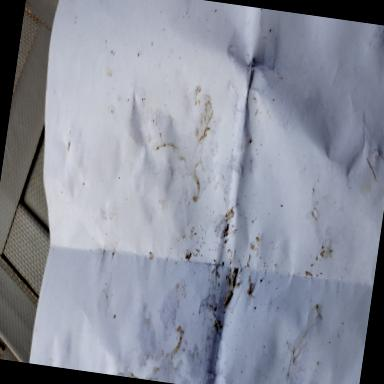pbw: (222, 286, 234, 308)
